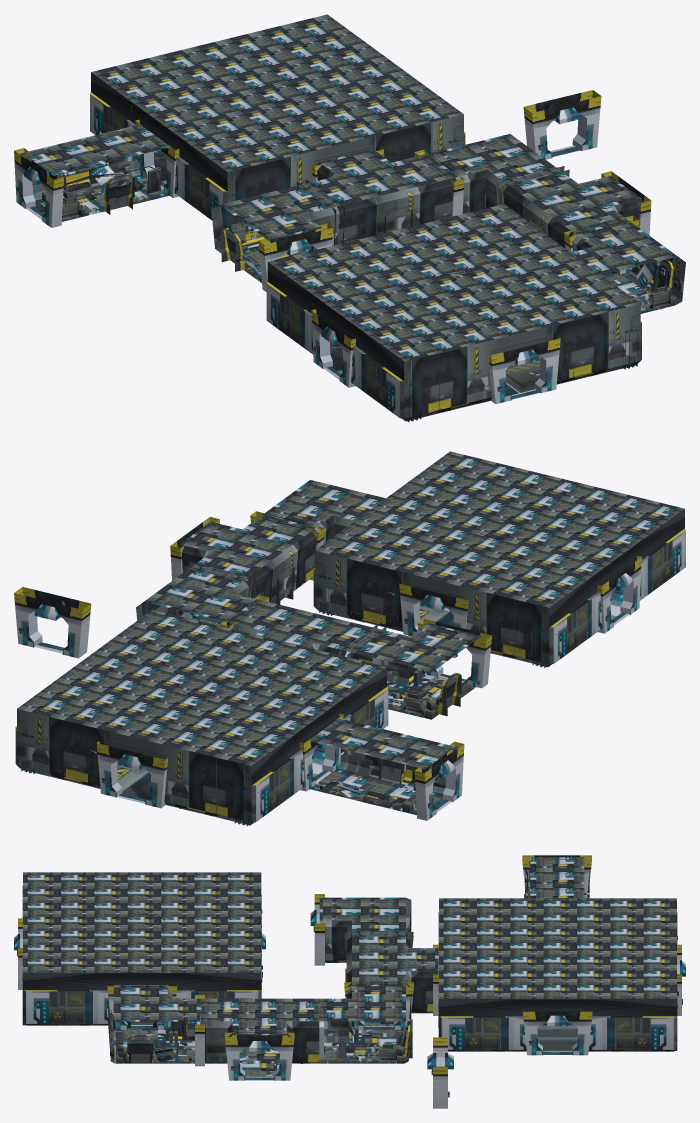
The model's file is Combined_Mesh_root_scene__15_7f71ba4d__ZombiesII_laboratory_08_d_36b73b52_c1f257.obj.
The picture shows the model from 3 angles, top to bottom: view 1: azimuth 30°, elevation 25°; view 2: azimuth 150°, elevation 25°; view 3: azimuth 270°, elevation 25°; orthographic projection. The views are drawn at different scales.
Bounding box in the file's own units: 84.62 × 10.34 × 113.
591 materials, 591 textured.
